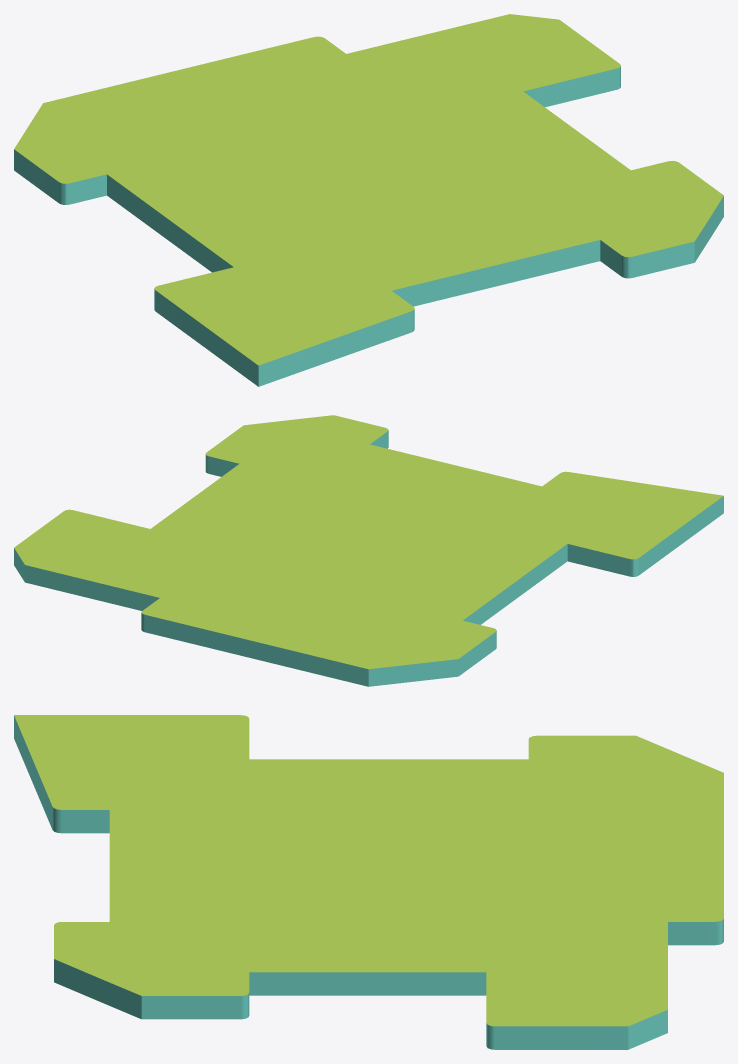
Rendered from Board_Boss.fbx.
The picture shows the model from 3 angles, top to bottom: view 1: azimuth 30°, elevation 25°; view 2: azimuth 150°, elevation 25°; view 3: azimuth 270°, elevation 25°; orthographic projection. The views are drawn at different scales.
Parts seen in each view (by area): view 1: Board_Boss; view 2: Board_Boss; view 3: Board_Boss.
Part boxes in pixels (x1,y1,x2,y2): Board_Boss: (14, 14, 723, 386); Board_Boss: (14, 415, 723, 686); Board_Boss: (14, 715, 723, 1049).
Bounding box in the file's own units: 42.84 × 1.5 × 41.29.
